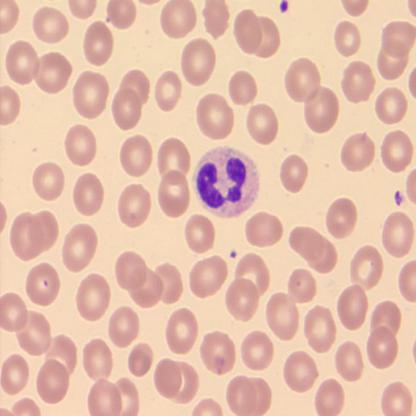Segmented neutrophil: (189, 144, 262, 219)
